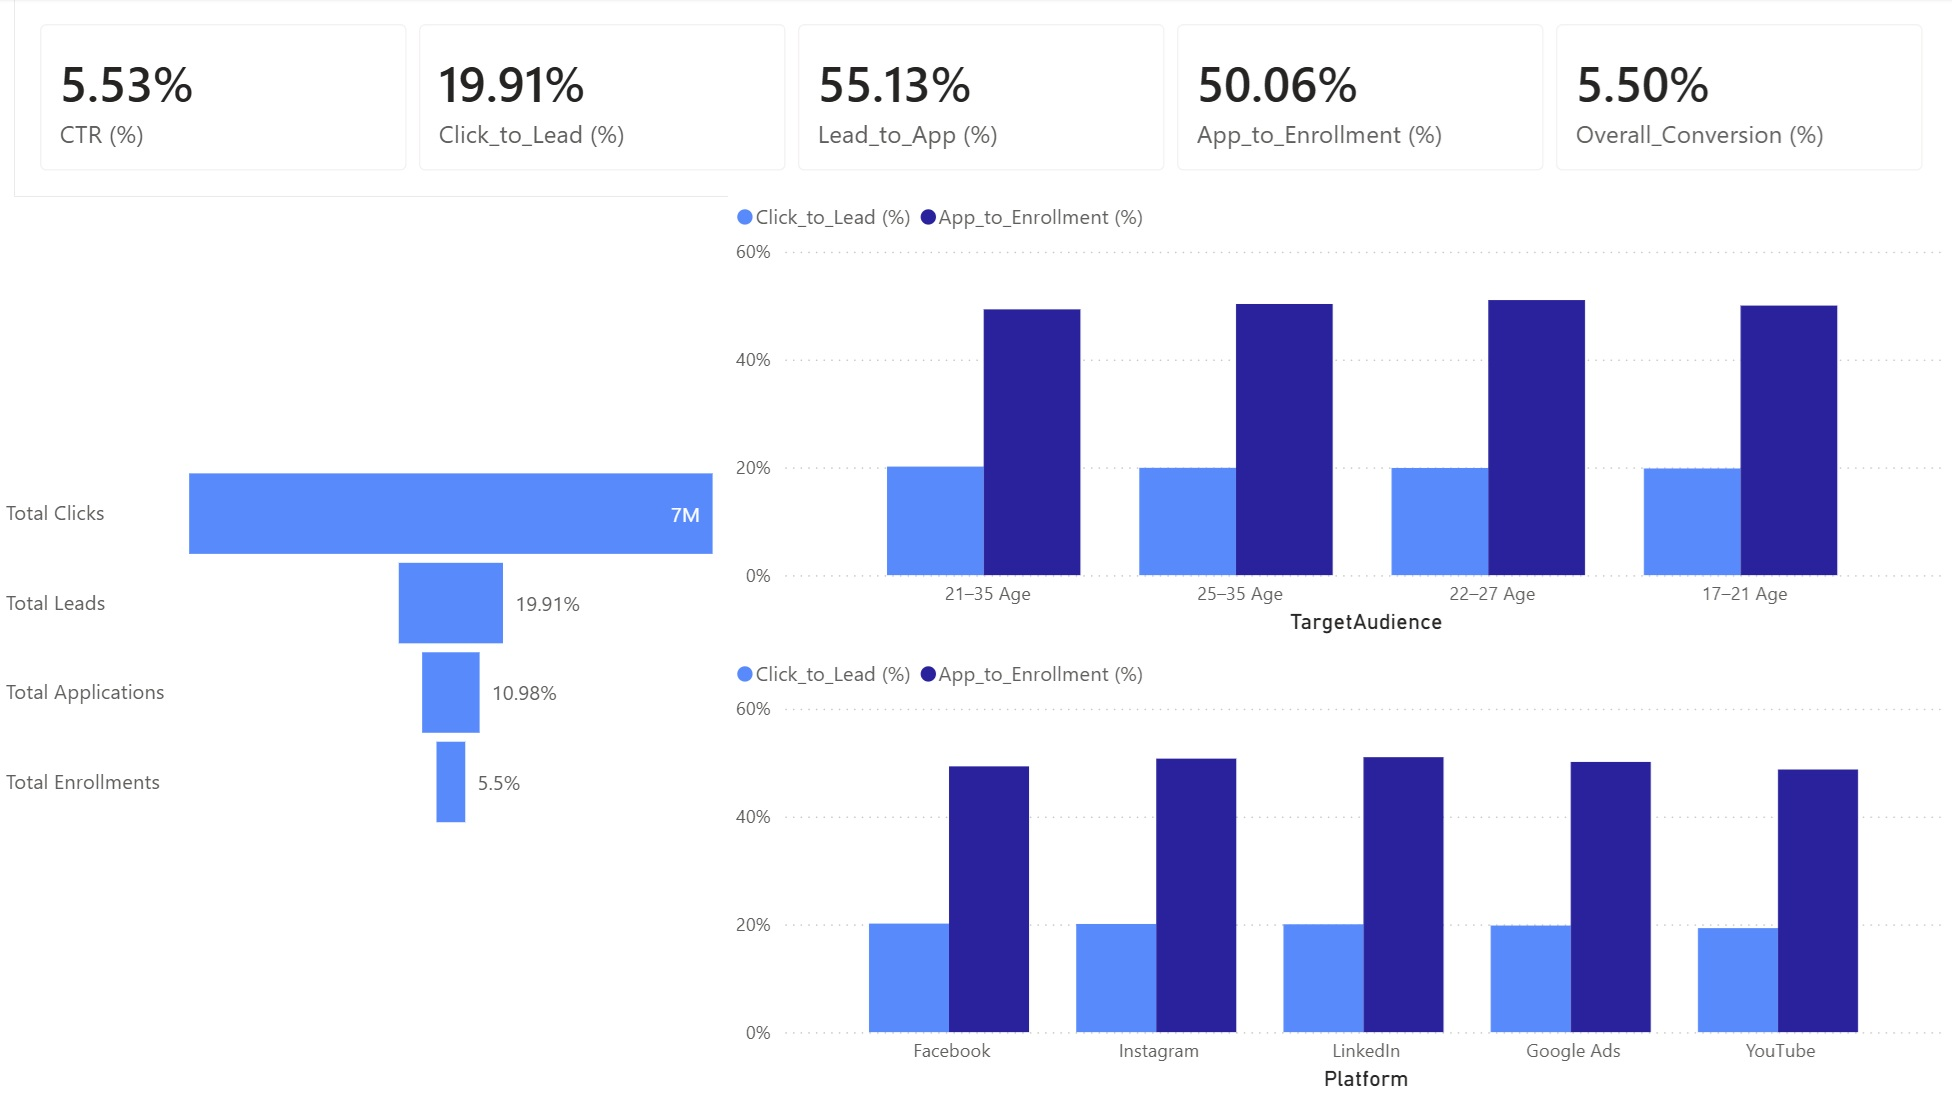

The page's visual inventory and layout, read from the dashboard file:
{"tool":"powerbi","page":{"name":"FUNNEL & CONVERSION ANALYSIS","canvas":[1280,720],"ordinal":1},"visuals":[{"type":"funnel","fields":{"Y":["_AllMeasures.Total Clicks","_AllMeasures.Total Leads","_AllMeasures.Total Applications","_AllMeasures.Total Enrollments"]},"box":[0,130.3,477.6,589.6],"z":0},{"type":"cardVisual","fields":{"Data":["_AllMeasures.CTR (%)","_AllMeasures.Click_to_Lead (%)","_AllMeasures.Lead_to_App (%)","_AllMeasures.App_to_Enrollment (%)","_AllMeasures.Overall_Conversion (%)"]},"box":[10.6,0,1269.4,130.3],"z":1000},{"type":"clusteredColumnChart","fields":{"Category":["public vw_cleanedperformance_advanced.TargetAudience"],"Y":["_AllMeasures.Click_to_Lead (%)","_AllMeasures.App_to_Enrollment (%)"]},"box":[477.6,123.3,802.4,298],"z":2000},{"type":"clusteredColumnChart","fields":{"Category":["public vw_cleanedperformance_advanced.Platform"],"Y":["_AllMeasures.Click_to_Lead (%)","_AllMeasures.App_to_Enrollment (%)"]},"box":[477.6,422,802.4,298],"z":3000}]}

Visuals, with their boxes in screenshot pixels (x1, y1, x2, y2), scaled from the page's 1280x720 canvas onto the 1952x1095 screenshot:
funnel - _AllMeasures.Total Clicks x _AllMeasures.Total Leads: l=0, t=198, r=728, b=1094
cardVisual - _AllMeasures.CTR (%) x _AllMeasures.Click_to_Lead (%): l=16, t=0, r=1951, b=198
clusteredColumnChart - public vw_cleanedperformance_advanced.TargetAudience x _AllMeasures.Click_to_Lead (%): l=728, t=188, r=1951, b=641
clusteredColumnChart - public vw_cleanedperformance_advanced.Platform x _AllMeasures.Click_to_Lead (%): l=728, t=642, r=1951, b=1094
